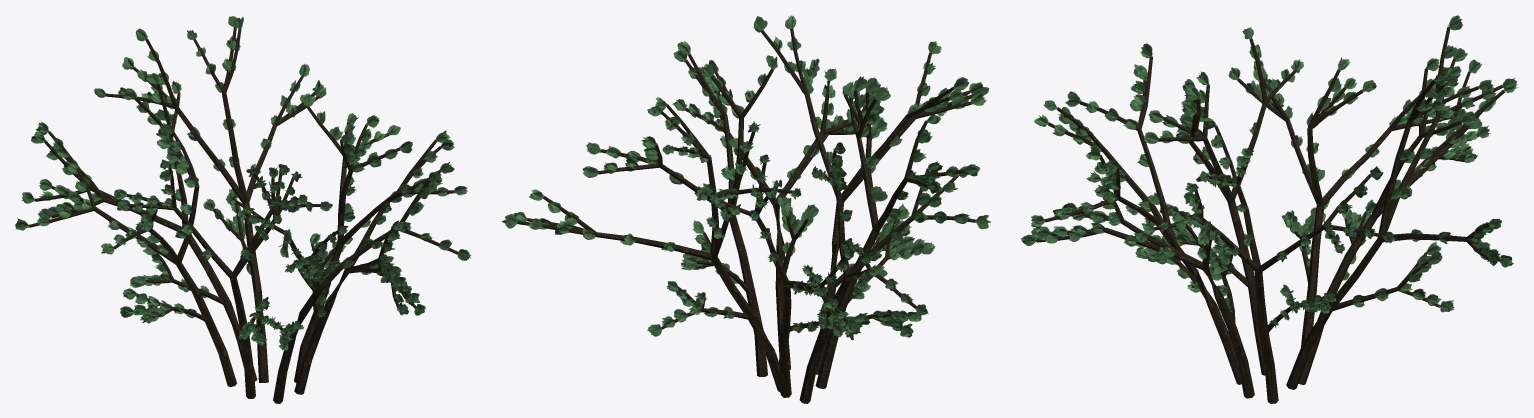
The model's file is alder_thicket_v01.glb.
3 views of the same model, side by side, from view 1: azimuth 30°, elevation 25°; view 2: azimuth 150°, elevation 25°; view 3: azimuth 270°, elevation 25° (orthographic). The views are drawn at different scales.
Parts seen in each view (by area): view 1: alder_thicket_v01; view 2: alder_thicket_v01; view 3: alder_thicket_v01.
Part boxes in pixels (x1,y1,x2,y2): alder_thicket_v01: (15, 16, 471, 403); alder_thicket_v01: (501, 15, 990, 403); alder_thicket_v01: (1020, 15, 1517, 403).
Size of the model in its own units: 5.19 by 4.44 by 5.78.
2 materials, 2 textured.
